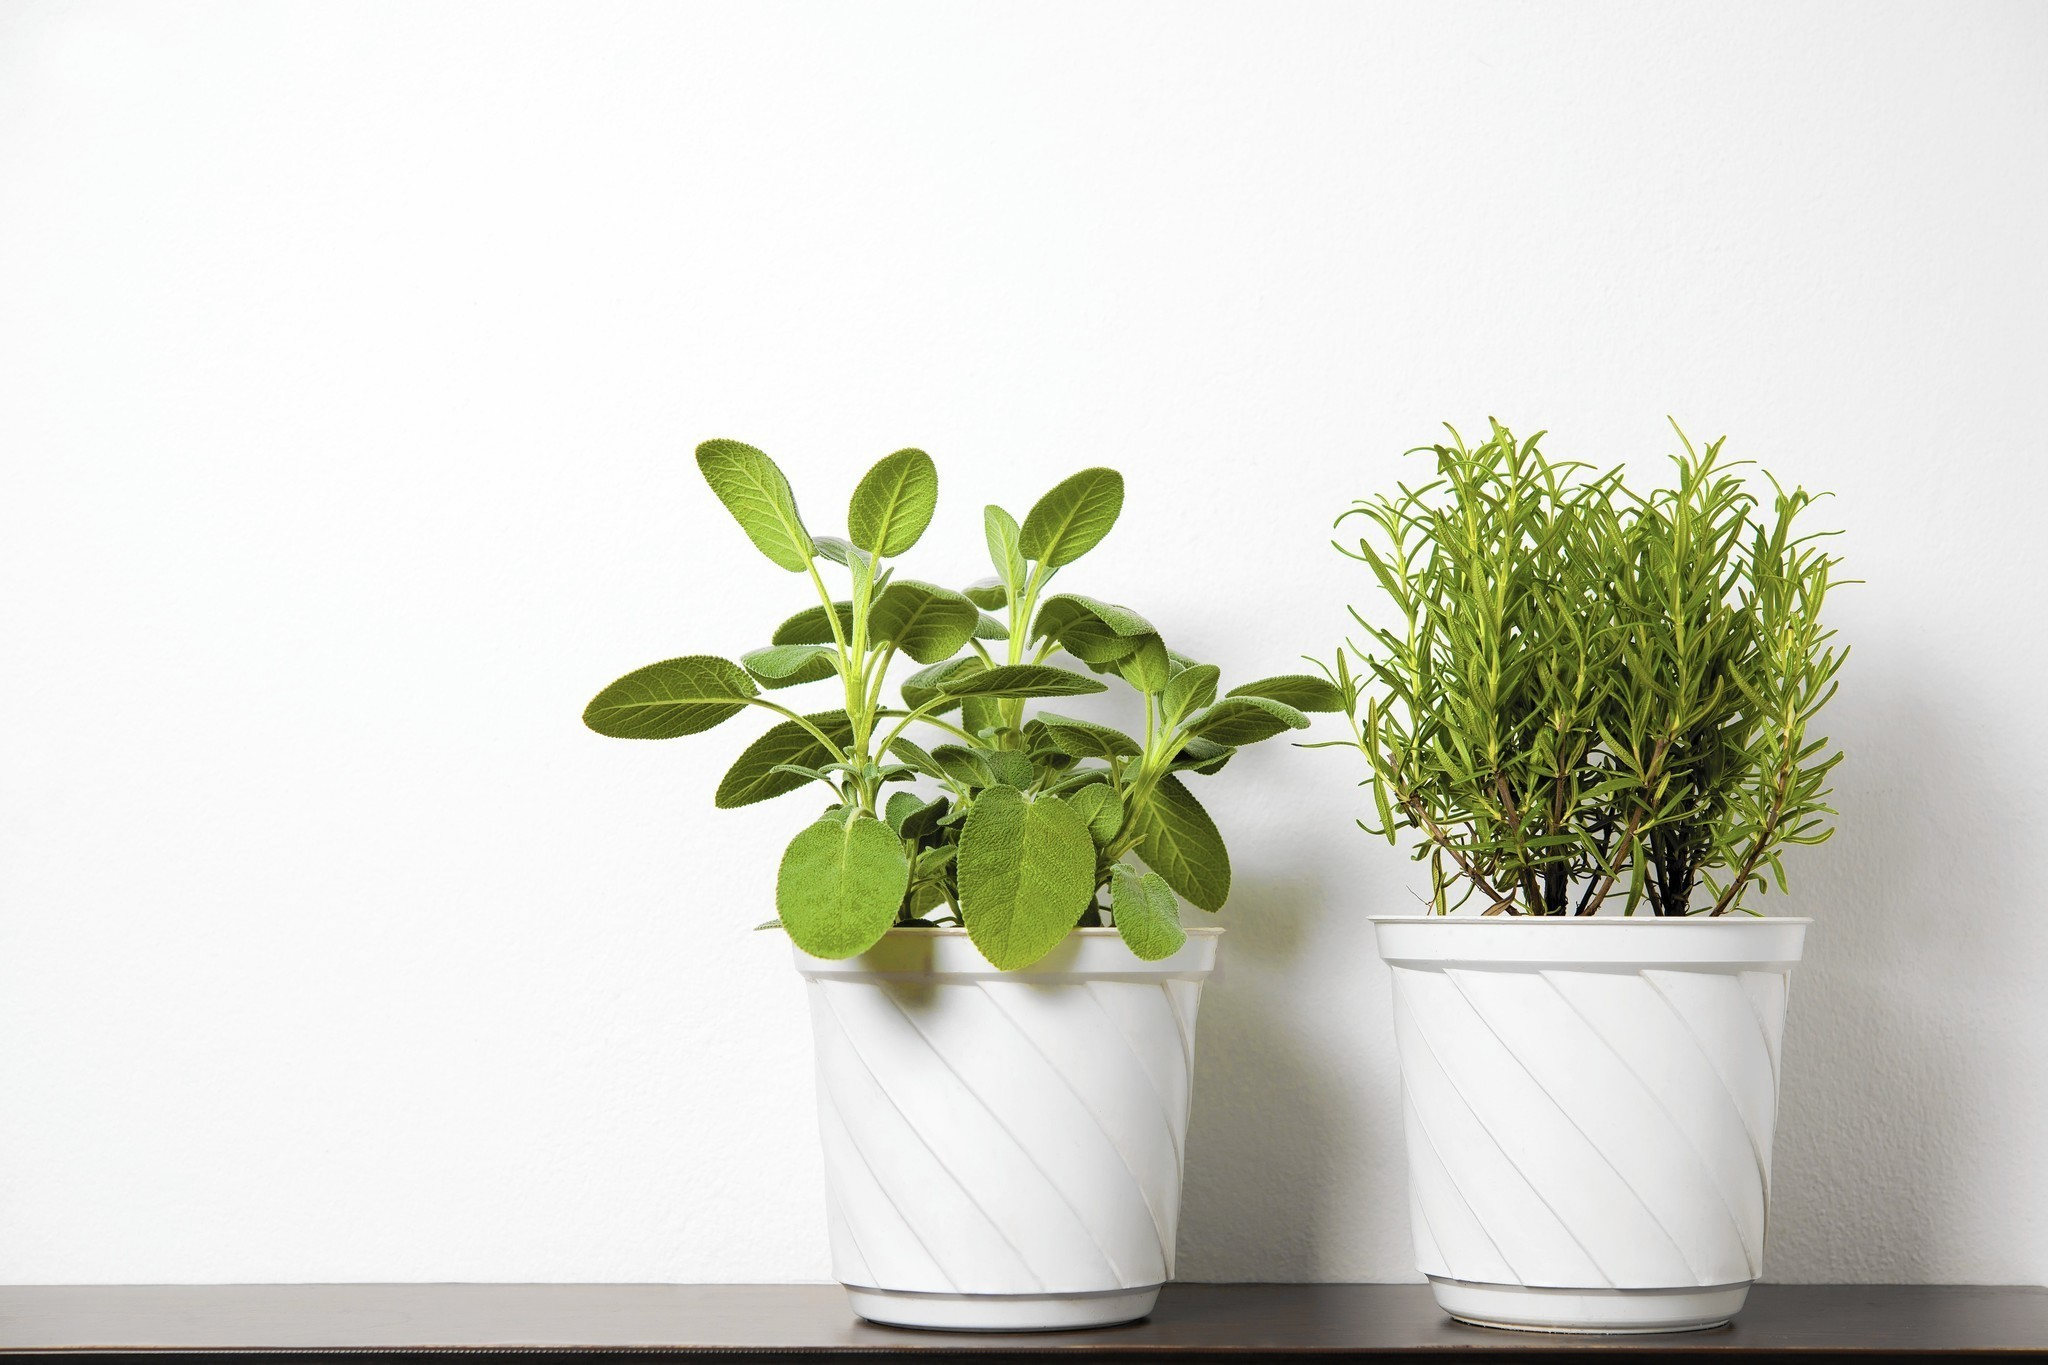pottedplant: (579, 440, 1326, 1335), (1310, 425, 1873, 1339)
